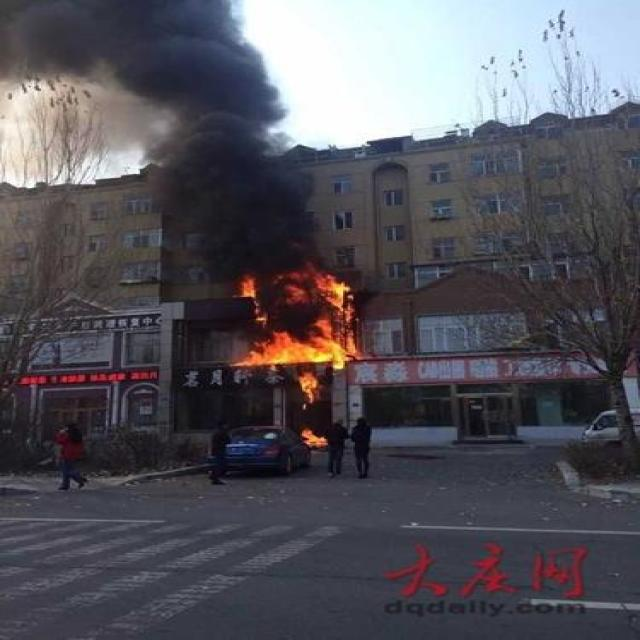fire: (217, 263, 370, 410), (294, 423, 332, 448)
other: (351, 356, 609, 387), (16, 372, 165, 381)
smoke: (5, 0, 309, 255)
